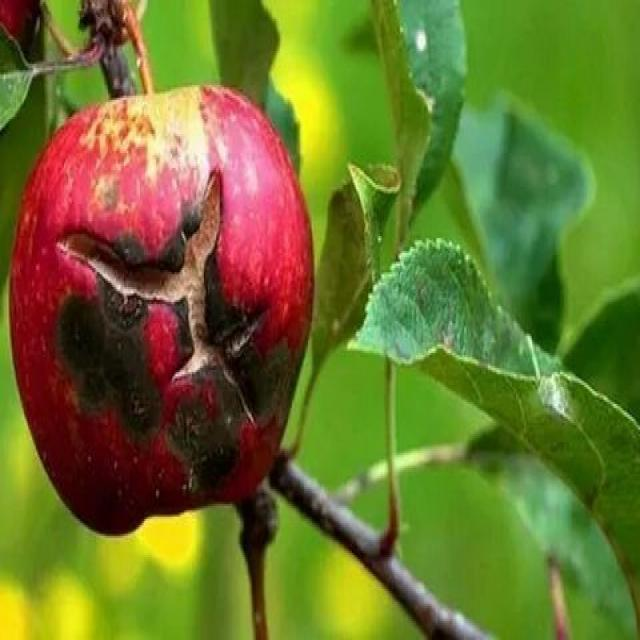Rotten: (10, 78, 315, 535)
